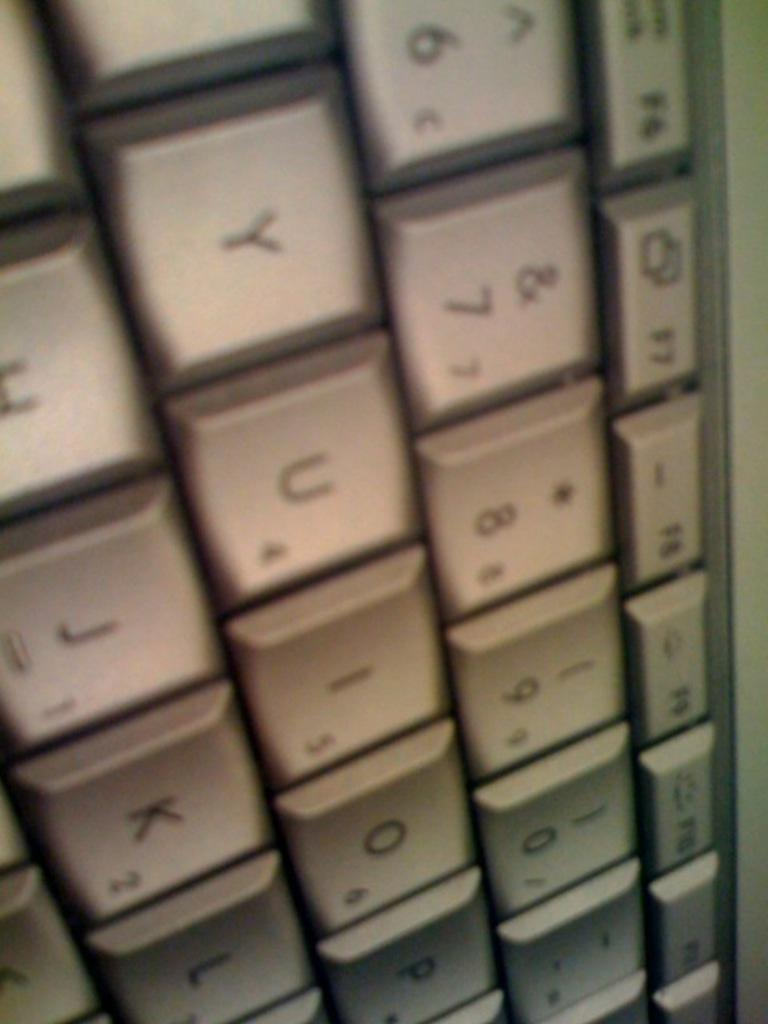Computer-keyboard: (0, 0, 766, 1022)
